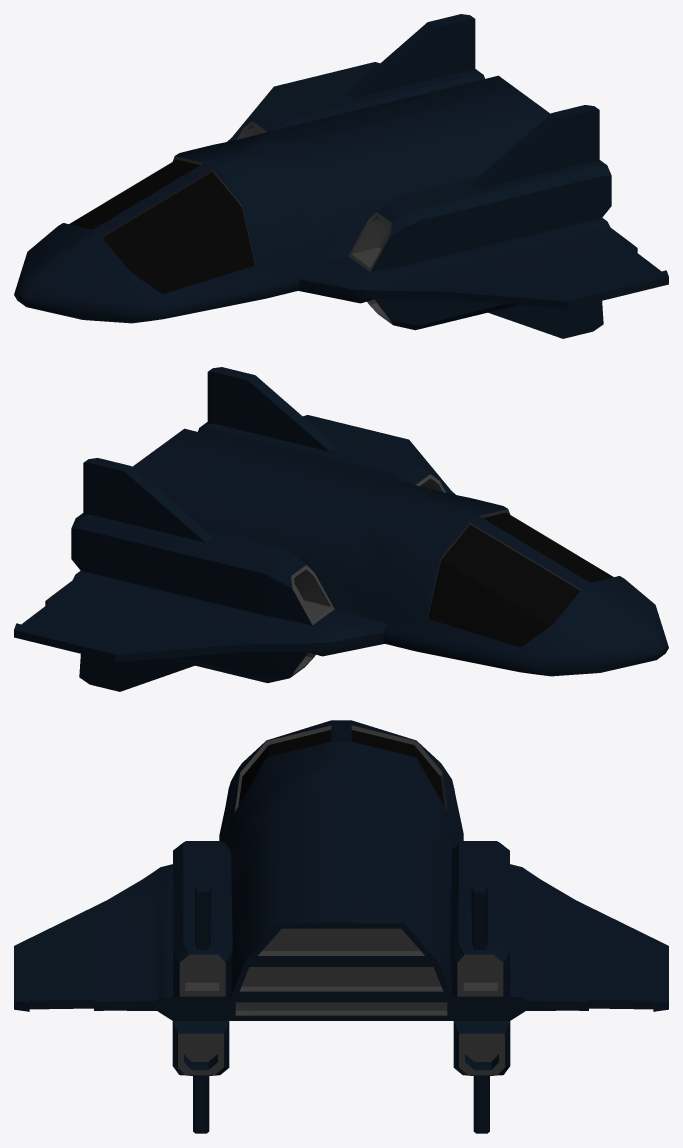
File: ShipEnemyL1E2.FBX
3 renders of one model, top to bottom at view 1: azimuth 30°, elevation 25°; view 2: azimuth 150°, elevation 25°; view 3: azimuth 270°, elevation 25°, orthographic. The views are drawn at different scales.
Parts seen in each view (by area): view 1: Ship Short New; view 2: Ship Short New; view 3: Ship Short New.
Part boxes in pixels (x1=…): Ship Short New: x1=14, y1=14, x2=668, y2=338; Ship Short New: x1=14, y1=367, x2=668, y2=691; Ship Short New: x1=14, y1=720, x2=668, y2=1133.
Bounding box in the file's own units: 443 × 180 × 434.
